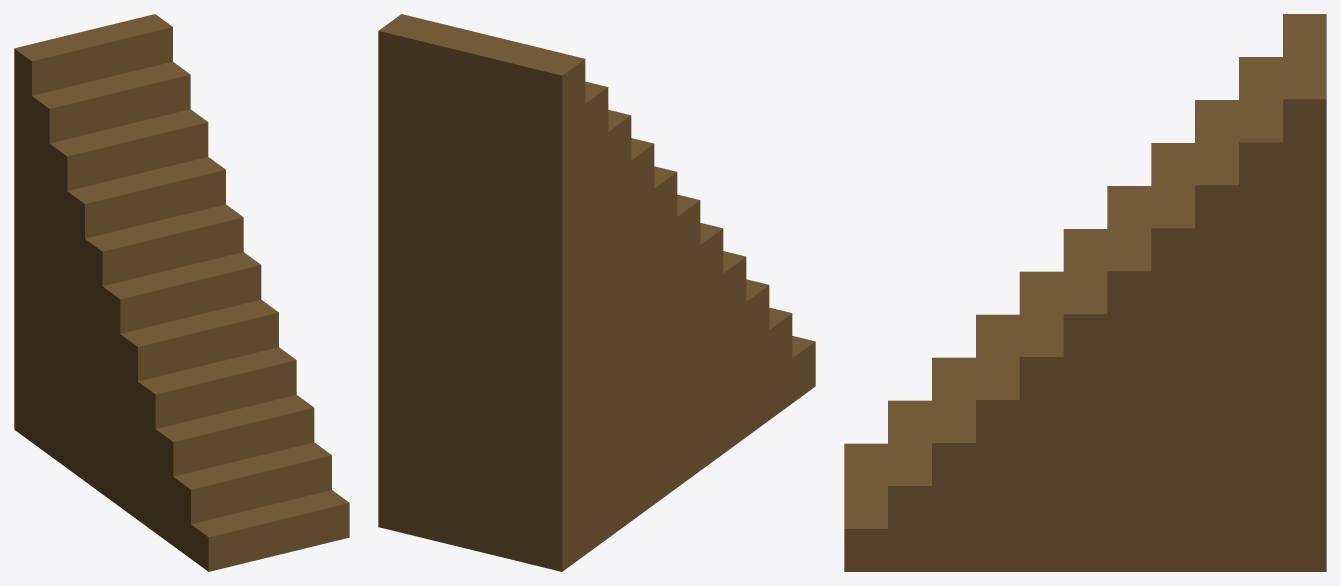
The model's file is Itr_Stair_03.FBX.
The picture shows the model from 3 angles, left to right: view 1: azimuth 30°, elevation 25°; view 2: azimuth 150°, elevation 25°; view 3: azimuth 270°, elevation 25°; orthographic projection. The views are drawn at different scales.
Parts seen in each view (by area): view 1: Itr_Stair_03; view 2: Itr_Stair_03; view 3: Itr_Stair_03.
Part boxes in pixels (x1,y1,x2,y2): Itr_Stair_03: (14, 14, 349, 571); Itr_Stair_03: (378, 14, 815, 571); Itr_Stair_03: (844, 14, 1326, 571).
Size of the model in its own units: 41.94 by 108 by 100.
